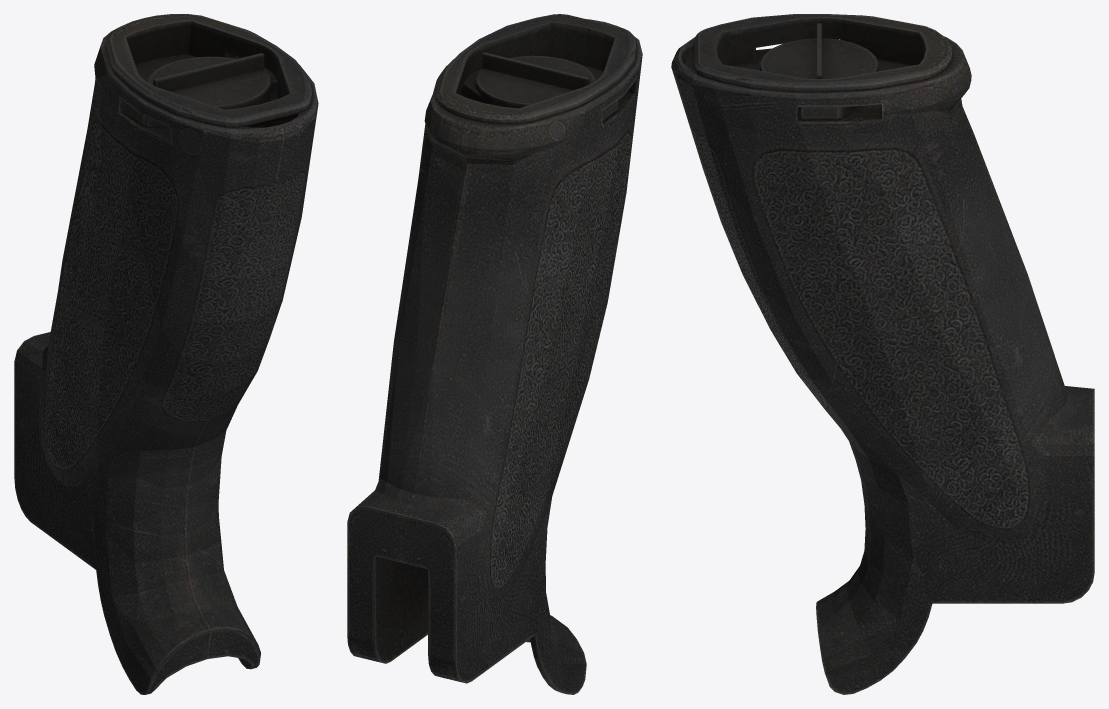
The picture shows the model from 3 angles, left to right: view 1: azimuth 30°, elevation 25°; view 2: azimuth 150°, elevation 25°; view 3: azimuth 270°, elevation 25°; orthographic projection. The views are drawn at different scales.
Parts seen in each view (by area): view 1: TW_5bb20e0ed4351e3bac1212dc_PZ_Import; view 2: TW_5bb20e0ed4351e3bac1212dc_PZ_Import; view 3: TW_5bb20e0ed4351e3bac1212dc_PZ_Import.
Part boxes in pixels (x1,y1,x2,y2): TW_5bb20e0ed4351e3bac1212dc_PZ_Import: (14,14,318,694); TW_5bb20e0ed4351e3bac1212dc_PZ_Import: (347,14,642,694); TW_5bb20e0ed4351e3bac1212dc_PZ_Import: (671,14,1094,694).
Bounding box in the file's own units: 0.019 × 0.0442 × 0.0713.
1 material, 1 textured.
